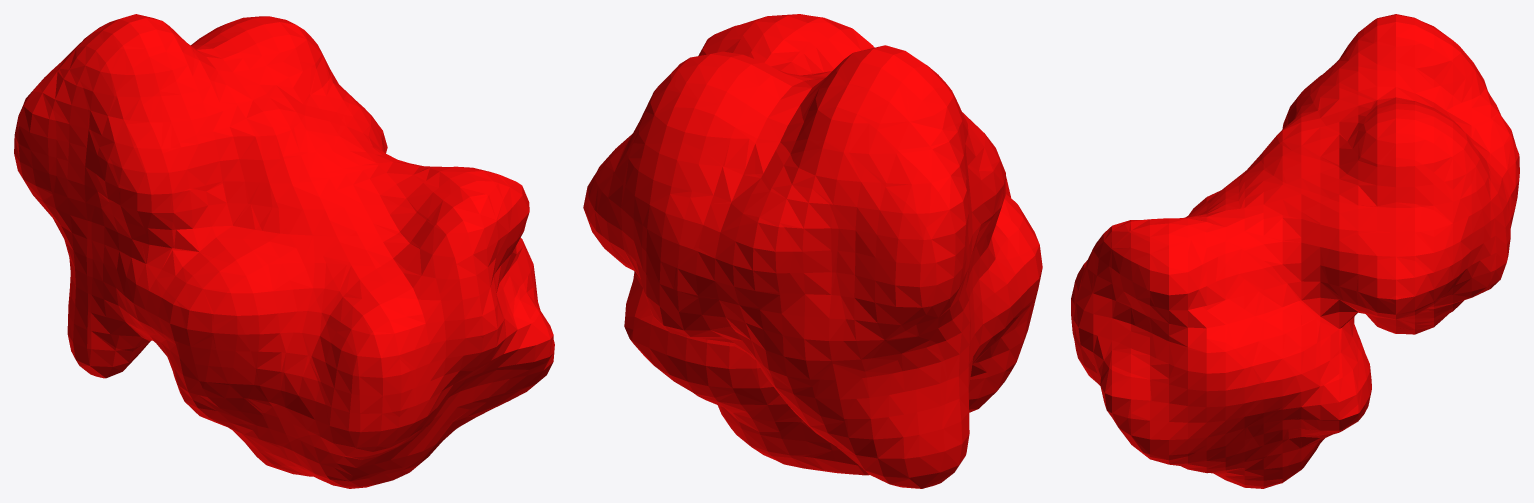
File: rdgB_coarse.dae
3 views of the same model, side by side, from view 1: azimuth 30°, elevation 25°; view 2: azimuth 150°, elevation 25°; view 3: azimuth 270°, elevation 25° (orthographic). The views are drawn at different scales.
Parts seen in each view (by area): view 1: rdgB; view 2: rdgB; view 3: rdgB.
Part boxes in pixels (x1=…): rdgB: x1=14, y1=14, x2=554, y2=488; rdgB: x1=583, y1=14, x2=1042, y2=488; rdgB: x1=1071, y1=14, x2=1519, y2=488.
Bounding box in the file's own units: 46.42 × 49.58 × 50.01.
